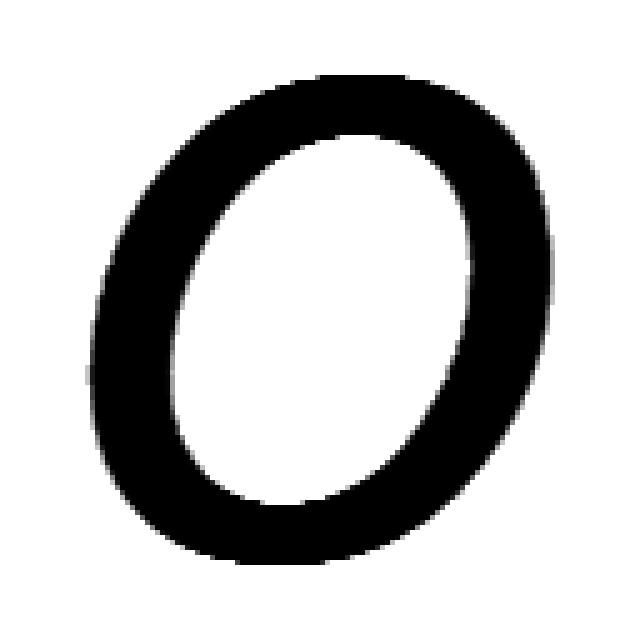O: (90, 75, 555, 570)
